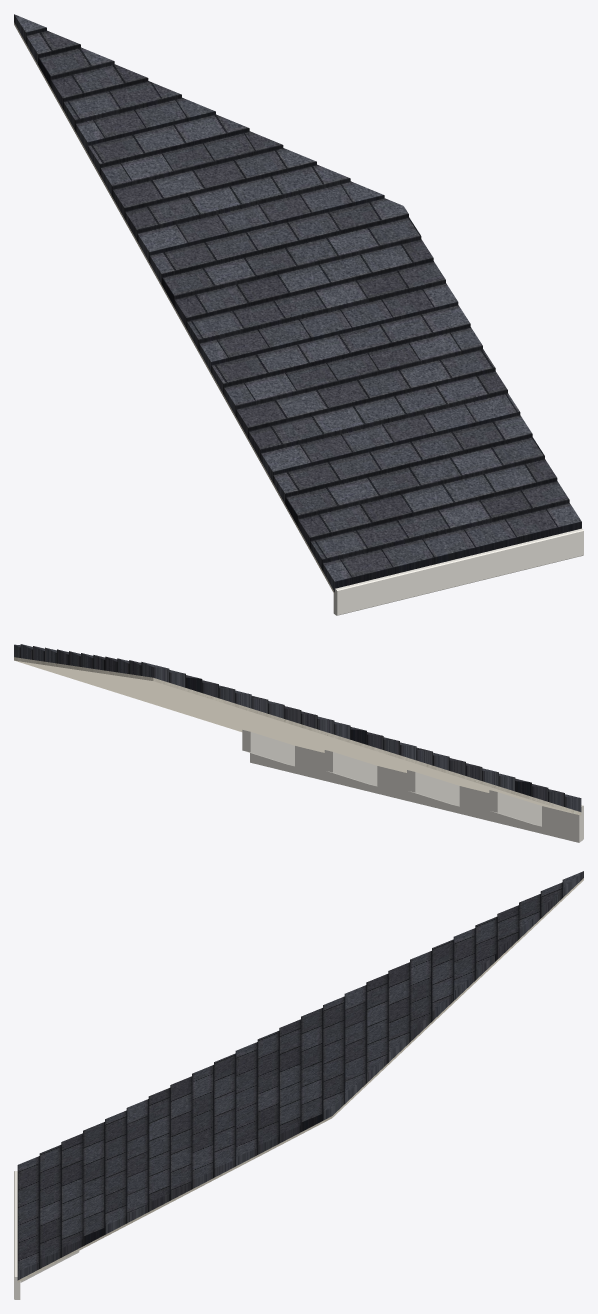
File: roof_main_4_porch.glb
3 views of the same model, one above another, from view 1: azimuth 30°, elevation 25°; view 2: azimuth 150°, elevation 25°; view 3: azimuth 270°, elevation 25° (orthographic). The views are drawn at different scales.
Parts seen in each view (by area): view 1: roof_main_4_porch_shingles, roof_main_4_porch_trim, roof_main_4_porch_plaster; view 2: roof_main_4_porch_trim, roof_main_4_porch_plaster, roof_main_4_porch_shingles; view 3: roof_main_4_porch_shingles, roof_main_4_porch_plaster, roof_main_4_porch_trim.
Part boxes in pixels (left/top/right/bottom): roof_main_4_porch_shingles: left=14, top=14, right=581, bottom=592; roof_main_4_porch_trim: left=333, top=528, right=583, bottom=615; roof_main_4_porch_plaster: left=14, top=22, right=334, bottom=594; roof_main_4_porch_trim: left=242, top=730, right=583, bottom=842; roof_main_4_porch_plaster: left=14, top=657, right=581, bottom=815; roof_main_4_porch_shingles: left=14, top=644, right=581, bottom=811; roof_main_4_porch_shingles: left=17, top=871, right=583, bottom=1280; roof_main_4_porch_plaster: left=17, top=878, right=583, bottom=1282; roof_main_4_porch_trim: left=14, top=1171, right=79, bottom=1299.
Bounding box in the file's own units: 2 × 2.83 × 4.53.
Materials: 3 (2 with a texture image).
